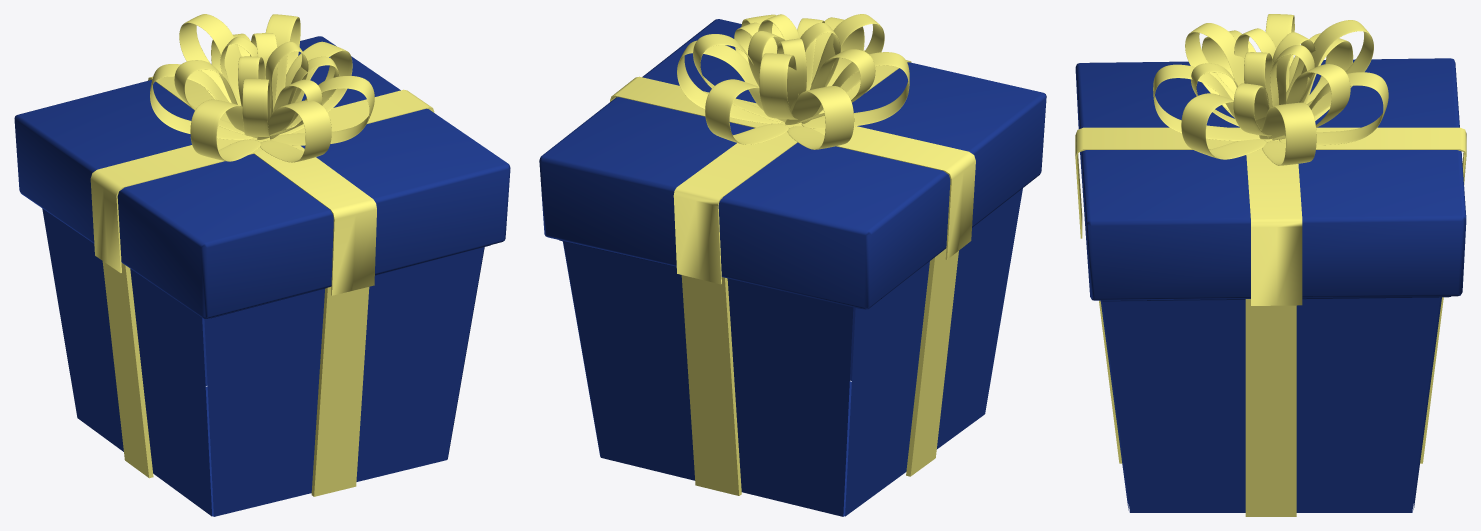
File: GiftBox.glb
3 renders of one model, left to right at view 1: azimuth 30°, elevation 25°; view 2: azimuth 150°, elevation 25°; view 3: azimuth 270°, elevation 25°, orthographic. The views are drawn at different scales.
Parts seen in each view (by area): view 1: sides_5, sides_1, sides_4; view 2: sides_5, sides_3, sides_4; view 3: sides_5, sides_2, sides_3, sides_1.
Boxes of the visible parts, x1,y1,x2,y2 form: sides_5: (14,14,510,318); sides_1: (204,247,484,516); sides_4: (42,208,212,516); sides_5: (539,14,1046,309); sides_3: (563,241,853,516); sides_4: (845,188,1022,516); sides_5: (1075,14,1466,305); sides_2: (1102,297,1440,516); sides_3: (1413,297,1443,509); sides_1: (1099,300,1128,510).
Bounding box in the file's own units: 0.9552 × 1.12 × 0.952.
